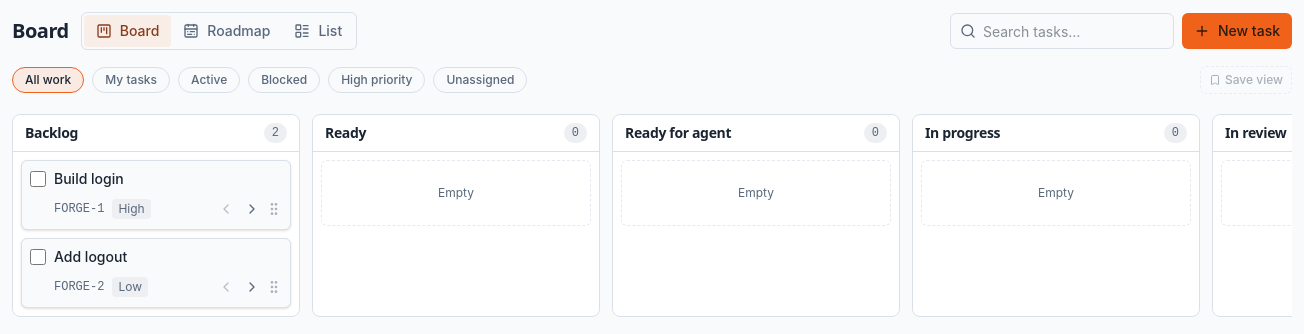
Scenario: BoardDepth › switches to the roadmap view
Expected: the element with test id "card-t1" is shown, [21,160,291,230]
Click the tab "Roadmap" at point(227, 31), box [171,15,282,47]
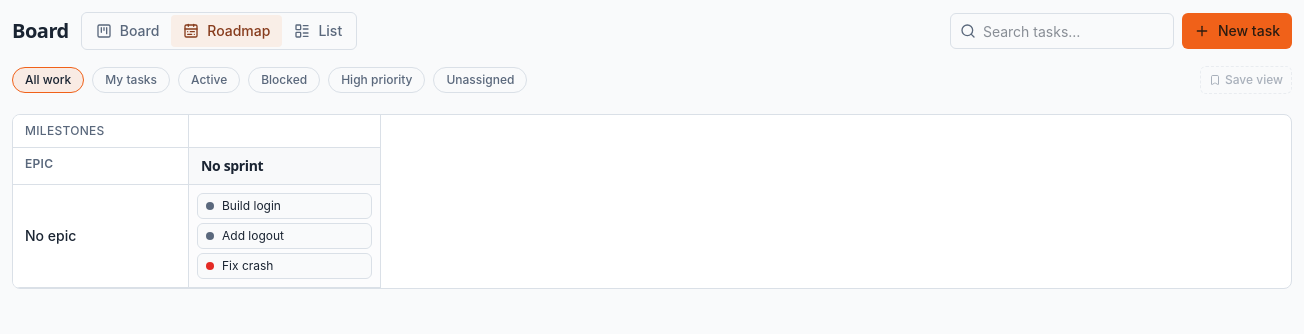
Expected: the element with test id "roadmap" is shown, [12,114,1292,289]
